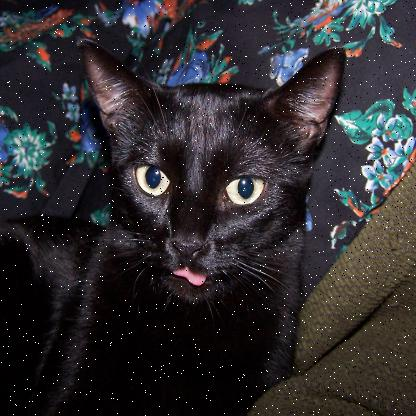cat: (47, 29, 352, 408)
